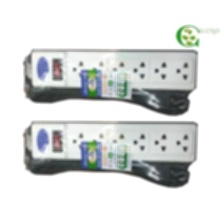three_eye_plug: (25, 47, 201, 96), (26, 119, 199, 165)
